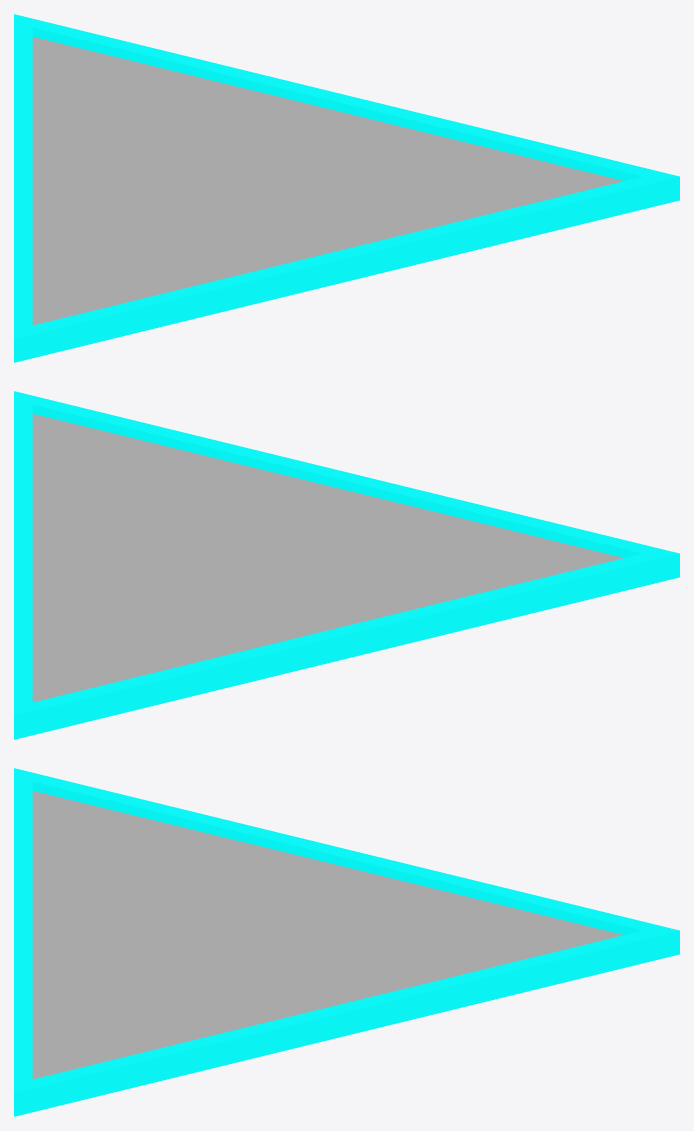
File: SFI0310020.fbx
The picture shows the model from 3 angles, top to bottom: view 1: azimuth 30°, elevation 25°; view 2: azimuth 150°, elevation 25°; view 3: azimuth 270°, elevation 25°; orthographic projection.
Parts seen in each view (by area): view 1: smSFI0310020; view 2: smSFI0310020; view 3: smSFI0310020.
Boxes of the visible parts, left/top/right/bottom form: smSFI0310020: left=14, top=14, right=679, bottom=362; smSFI0310020: left=14, top=391, right=679, bottom=739; smSFI0310020: left=14, top=768, right=679, bottom=1116.
Bounding box in the file's own units: 173 × 5.93 × 150.
